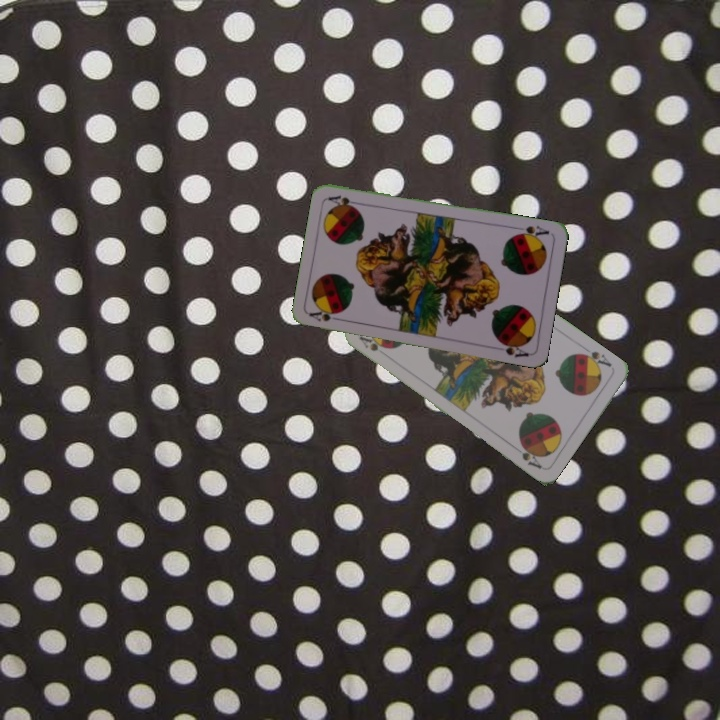SA: (356, 332, 392, 361), (576, 347, 614, 372), (511, 222, 552, 242), (306, 307, 346, 324)
